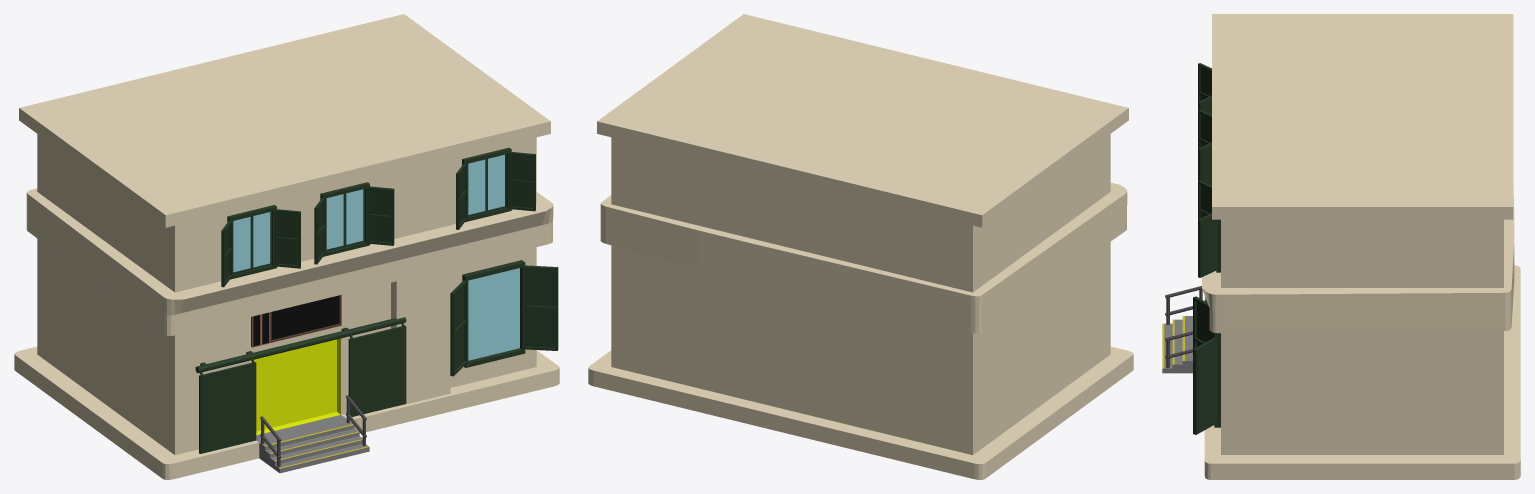
The model's file is MusicShop2.glb.
3 views of the same model, side by side, from view 1: azimuth 30°, elevation 25°; view 2: azimuth 150°, elevation 25°; view 3: azimuth 270°, elevation 25° (orthographic). The views are drawn at different scales.
Visible parts, largest first — view 1: MainBuilding, SlidingDoor, SmallWindow, SmallWindow.001, SmallWindow.002, BigWindow, Stairs, Billboard, Railing; view 2: MainBuilding; view 3: MainBuilding, SmallWindow.002, BigWindow, Stairs, SmallWindow, Railing, SmallWindow.001.
Boxes of the visible parts, left/top/right/bottom form: MainBuilding: left=14, top=14, right=559, bottom=479; SlidingDoor: left=195, top=317, right=406, bottom=453; SmallWindow: left=314, top=182, right=394, bottom=264; SmallWindow.001: left=221, top=205, right=300, bottom=287; SmallWindow.002: left=456, top=147, right=535, bottom=229; BigWindow: left=450, top=262, right=558, bottom=376; Stairs: left=259, top=421, right=369, bottom=473; Billboard: left=251, top=295, right=341, bottom=347; Railing: left=260, top=395, right=366, bottom=466; MainBuilding: left=588, top=14, right=1133, bottom=479; MainBuilding: left=1193, top=14, right=1520, bottom=479; SmallWindow.002: left=1198, top=180, right=1220, bottom=277; BigWindow: left=1193, top=297, right=1220, bottom=434; Stairs: left=1162, top=316, right=1192, bottom=373; SmallWindow: left=1198, top=109, right=1211, bottom=185; Railing: left=1165, top=286, right=1202, bottom=367; SmallWindow.001: left=1198, top=63, right=1211, bottom=114.
Bounding box in the file's own units: 13.28 × 8.4 × 10.13.
